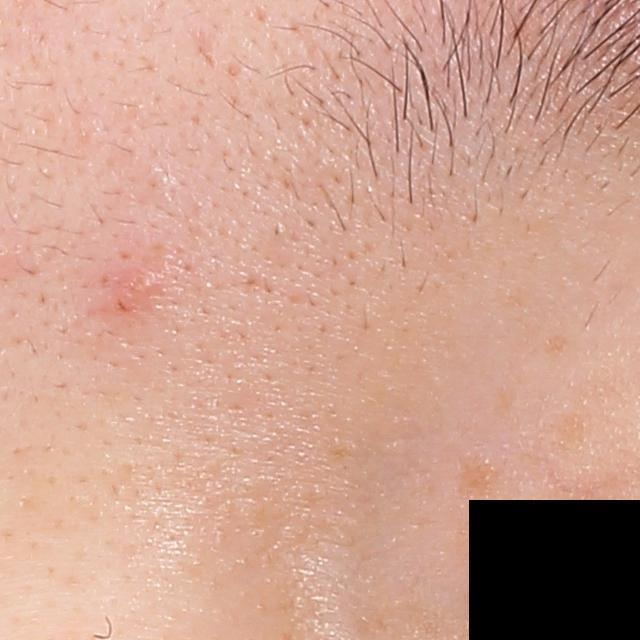melasma: (452, 452, 504, 504), (553, 409, 596, 452), (542, 334, 567, 355)
